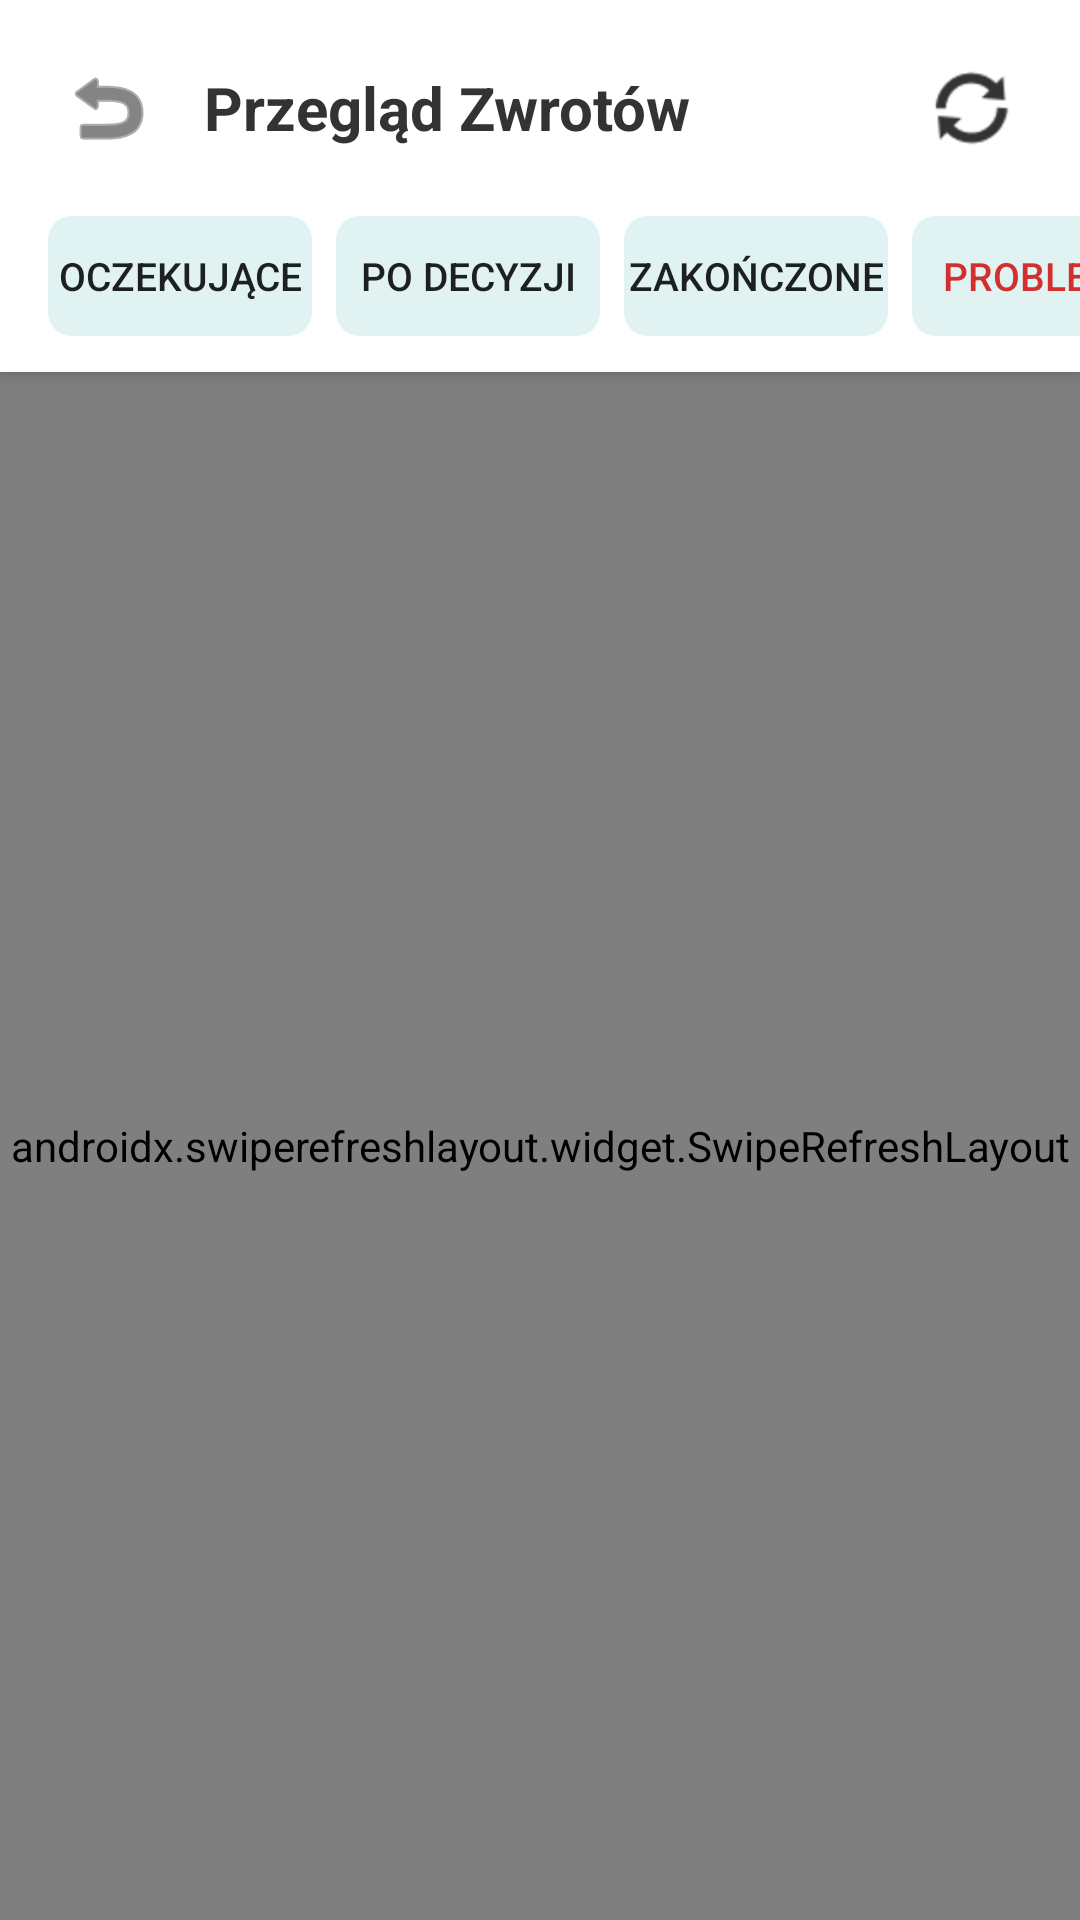

Point at icon controls on the screen. Image size 1080×1920, points as (x,y).
popup sync: (972,108)
revert: (109,108)
